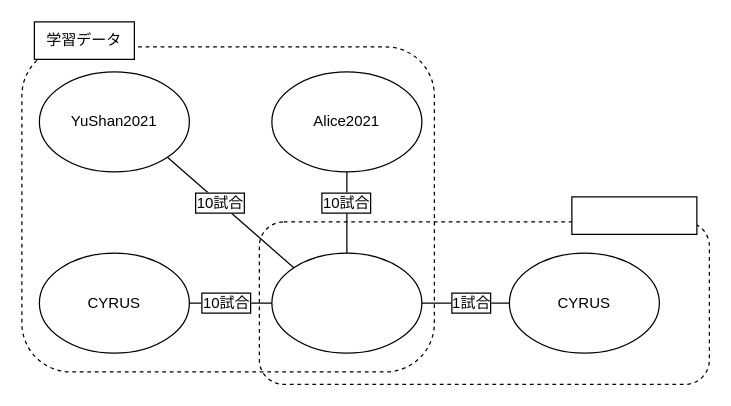
Some shapes in this 731 by 406 pixel diagram are drawn without their labels. Each missing label, with the box of its shape:
HELIOS base: (271, 252, 422, 353)
テストデータ: (571, 196, 697, 234)
